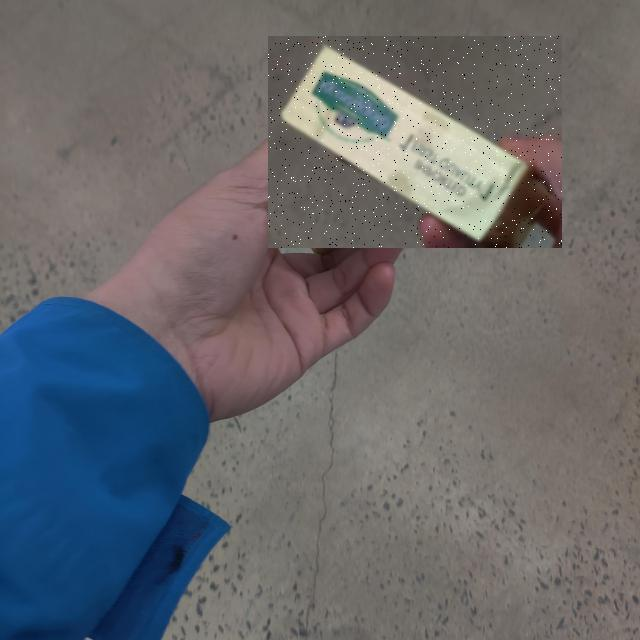Butter: (268, 36, 562, 248)
